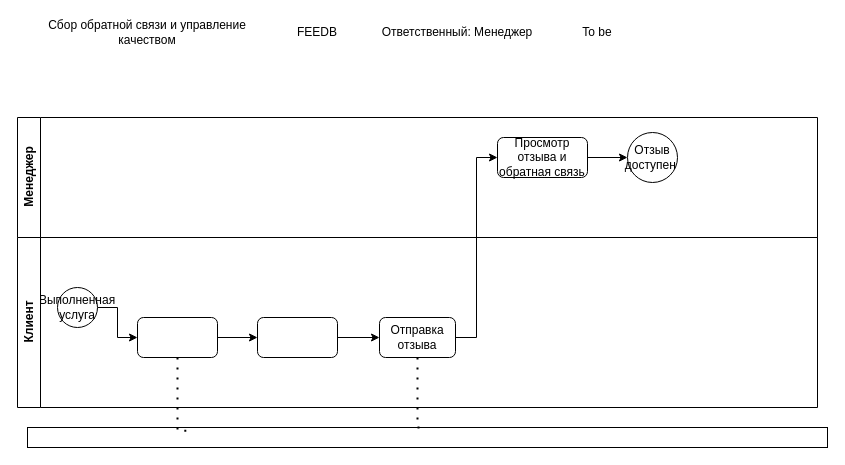
Some shapes in this 845 by 465 pixel diagram are drawn without their labels. Each missing label, with the centre of its shape:
Оценка и заполнение анкеты: pixel 297 337
Переход по ссылке в мессенджере: pixel 177 337
Система: pixel 427 437
